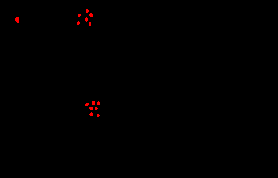Target: (15, 17, 19, 23), (89, 13, 93, 17), (89, 112, 93, 116), (85, 17, 88, 22), (86, 9, 89, 13), (77, 21, 80, 25), (92, 101, 95, 105), (97, 101, 100, 105), (85, 103, 89, 106), (89, 107, 93, 110), (78, 14, 81, 17), (95, 107, 98, 110), (97, 114, 100, 117), (89, 22, 91, 26)
